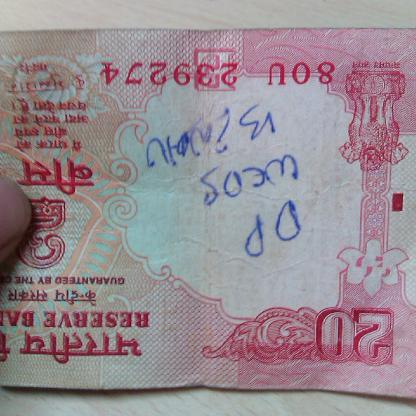Old20Front: (0, 29, 416, 391)
